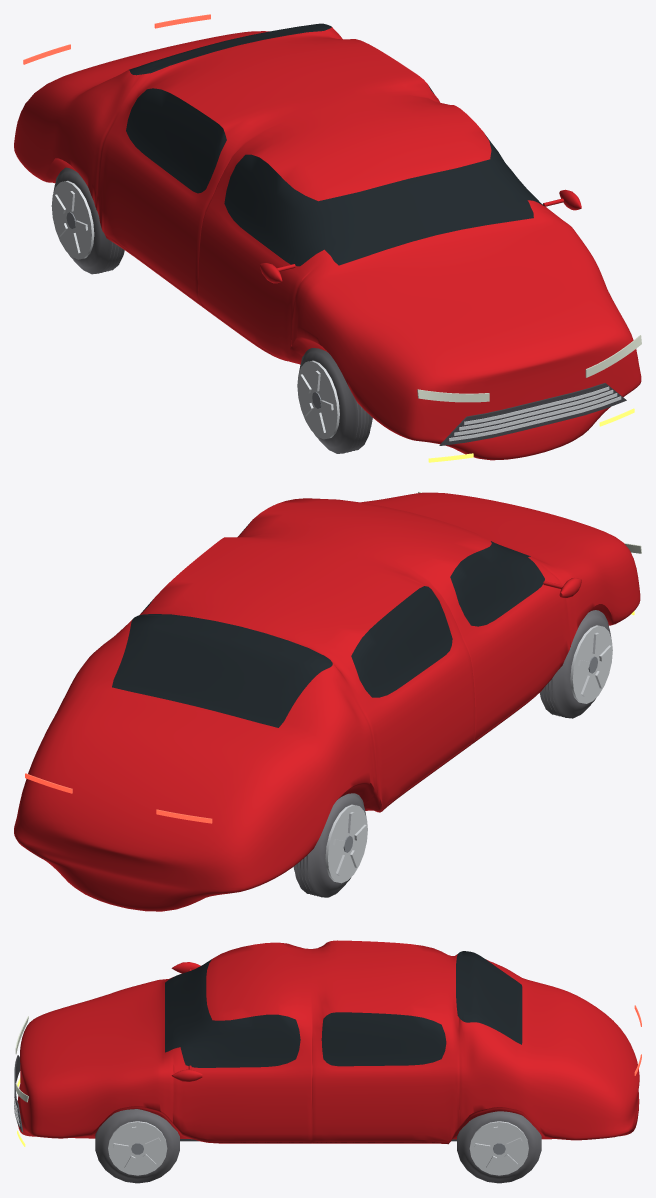
Rendered from Sedan_Mid_A_21.fbx.
3 views of the same model, one above another, from view 1: azimuth 30°, elevation 25°; view 2: azimuth 150°, elevation 25°; view 3: azimuth 270°, elevation 25° (orthographic). The views are drawn at different scales.
Parts seen in each view (by area): view 1: LOD0; view 2: LOD0; view 3: LOD0.
Boxes of the visible parts, left/top/right/bottom form: LOD0: left=14, top=14, right=641, bottom=462; LOD0: left=14, top=491, right=641, bottom=911; LOD0: left=14, top=940, right=641, bottom=1183.
Size of what is drawn, in the model's own units: 206 by 145 by 490.
